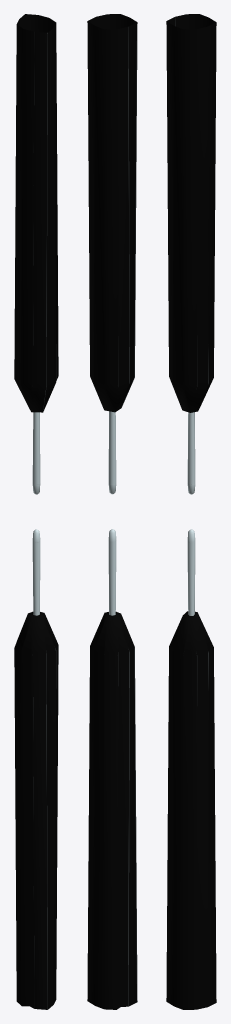
Rendered from rotor_column.obj.
3 views of the same model, side by side, from view 1: azimuth 90°, elevation 25°; view 2: azimuth 150°, elevation 25°; view 3: azimuth 330°, elevation 25° (orthographic).
Parts seen in each view (by area): view 1: 6.Rotor_Centre; view 2: 6.Rotor_Centre; view 3: 6.Rotor_Centre.
Part boxes in pixels (left/top/right/bottom): 6.Rotor_Centre: left=14, top=14, right=58, bottom=1009; 6.Rotor_Centre: left=87, top=14, right=137, bottom=1009; 6.Rotor_Centre: left=166, top=14, right=216, bottom=1009.
Size of the model in its own units: 0.12 by 2.91 by 0.1193.
Materials: 1 (1 with a texture image).
